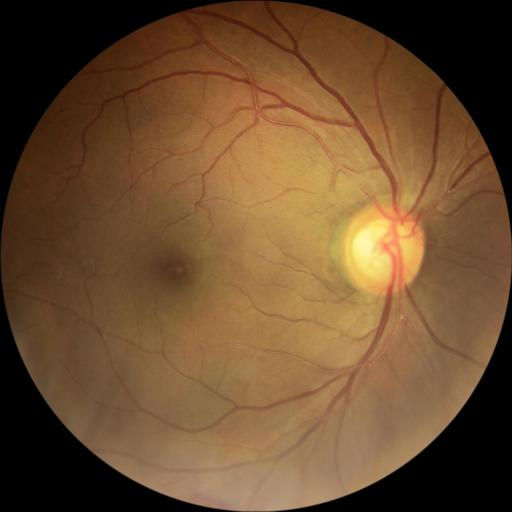Optic Cup: (354, 219, 416, 282)
Optic Disc: (344, 203, 425, 294)
